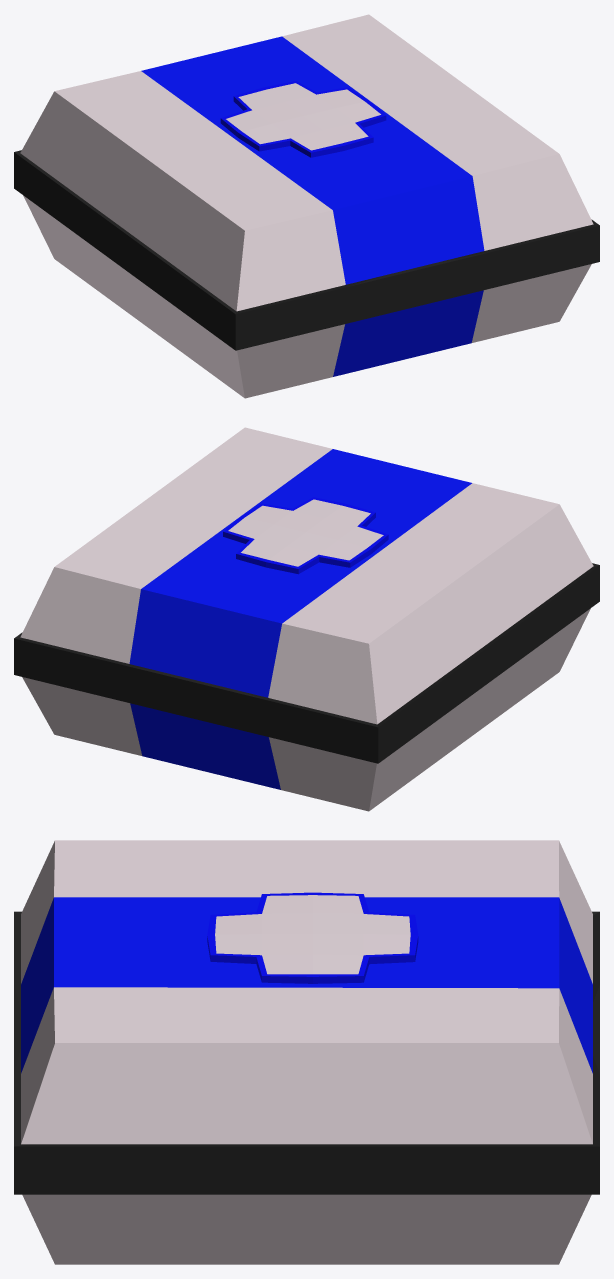
The model's file is medikit3.fbx.
3 views of the same model, one above another, from view 1: azimuth 30°, elevation 25°; view 2: azimuth 150°, elevation 25°; view 3: azimuth 270°, elevation 25° (orthographic). The views are drawn at different scales.
Visible parts, largest first — view 1: Cube; view 2: Cube; view 3: Cube.
Boxes of the visible parts, x1,y1,x2,y2 form: Cube: (14,14,599,398); Cube: (14,427,599,811); Cube: (14,840,599,1264).
Bounding box in the file's own units: 262 × 119 × 276.
